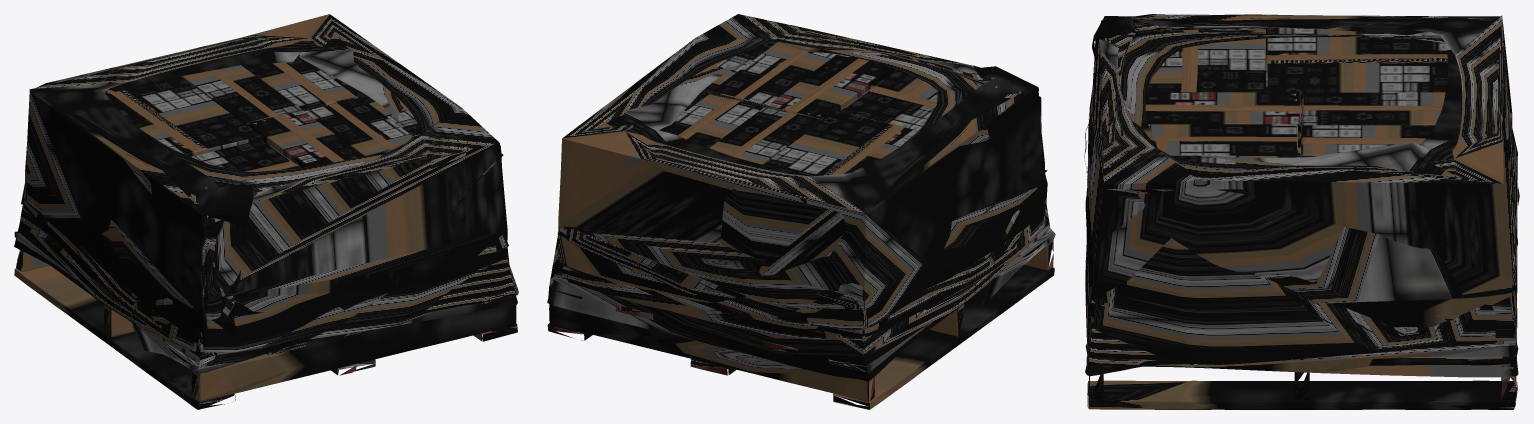
The model's file is pallet_assembly_yellow_a02.glb.
3 renders of one model, left to right at view 1: azimuth 30°, elevation 25°; view 2: azimuth 150°, elevation 25°; view 3: azimuth 270°, elevation 25°, orthographic. The views are drawn at different scales.
Visible parts, largest first — view 1: geometry_0; view 2: geometry_0; view 3: geometry_0.
Part boxes in pixels (x1=…): geometry_0: x1=14, y1=14, x2=518, y2=409; geometry_0: x1=547, y1=14, x2=1055, y2=409; geometry_0: x1=1084, y1=14, x2=1519, y2=409.
Size of the model in its own units: 0.417 by 0.2479 by 0.42.
Materials: 1 (1 with a texture image).
